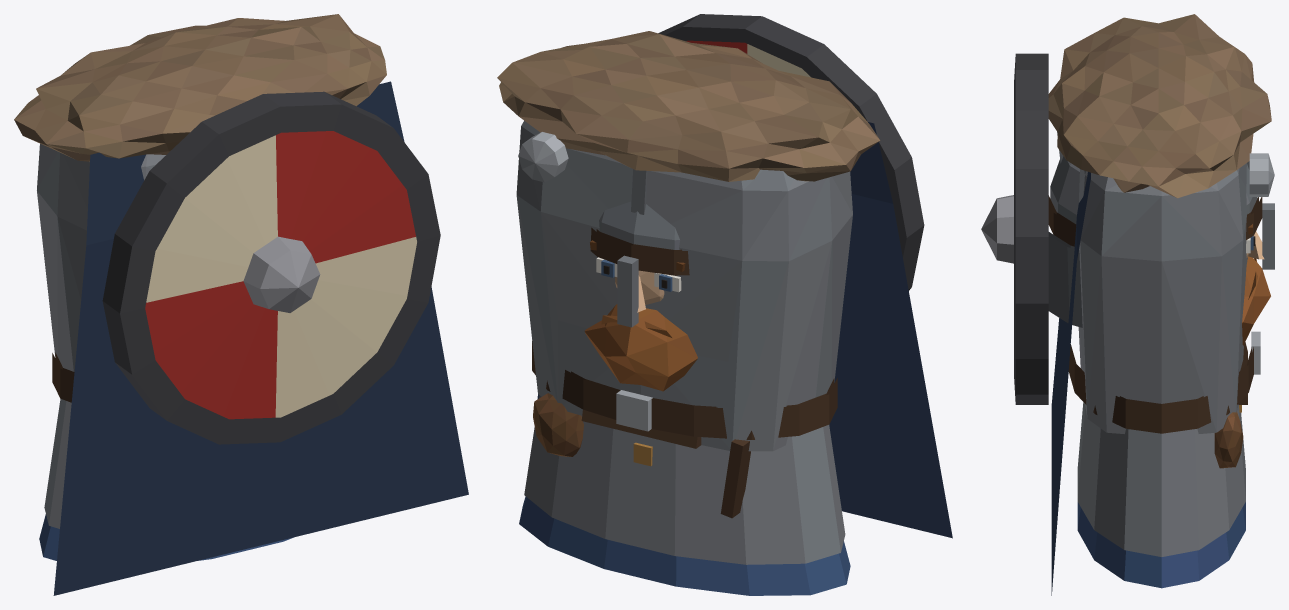
File: Settler_Man_4.glb
The picture shows the model from 3 angles, left to right: view 1: azimuth 30°, elevation 25°; view 2: azimuth 150°, elevation 25°; view 3: azimuth 270°, elevation 25°; orthographic projection. The views are drawn at different scales.
Visible parts, largest first — view 1: Body; view 2: Body, Head, Leg; view 3: Body, Head.
Boxes of the visible parts, box(x1,y1,x2,y2) form: Body: box(14, 14, 468, 595); Body: box(497, 14, 952, 595); Head: box(584, 169, 697, 466); Leg: box(581, 409, 701, 448); Body: box(981, 14, 1274, 595); Head: box(1048, 132, 1274, 412).
Size of the model in its own units: 2.9 by 3.14 by 1.87.
1 material, 1 textured.
